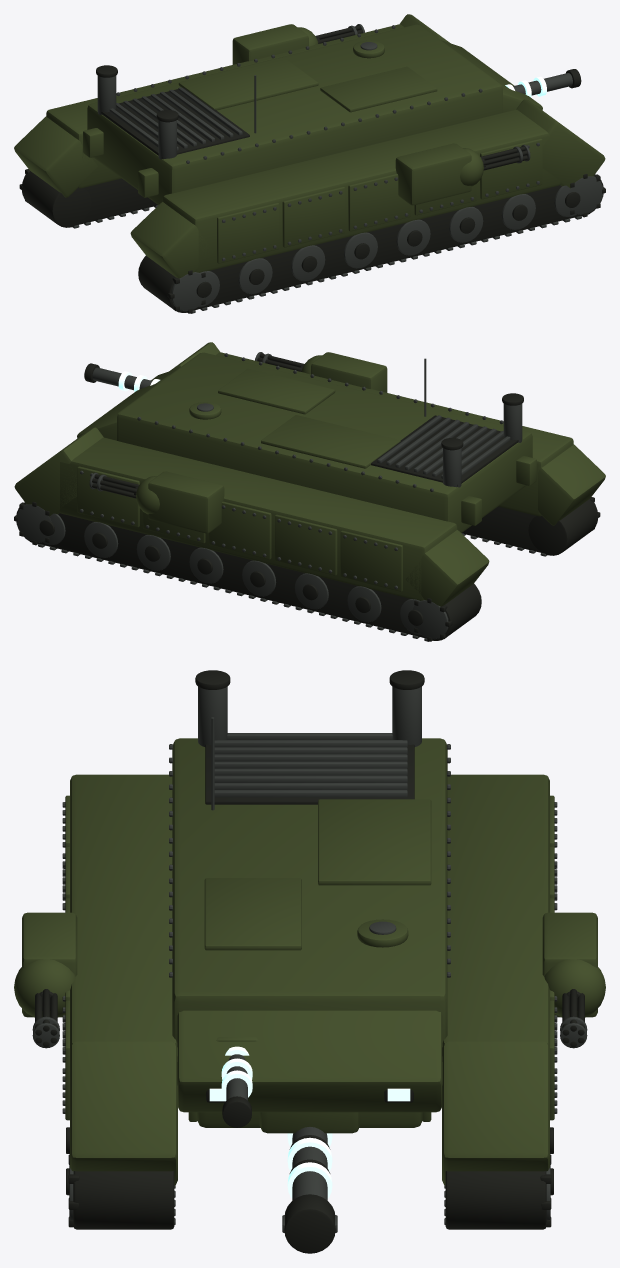
File: char_lourd.glb
3 renders of one model, top to bottom at view 1: azimuth 30°, elevation 25°; view 2: azimuth 150°, elevation 25°; view 3: azimuth 270°, elevation 25°, orthographic. The views are drawn at different scales.
Parts seen in each view (by area): view 1: coque; view 2: coque; view 3: coque, canon, tourelle.
Boxes of the visible parts, x1=… form: coque: x1=14, y1=14, x2=605, y2=313; coque: x1=14, y1=342, x2=605, y2=641; coque: x1=14, y1=670, x2=605, y2=1229; canon: x1=282, y1=1127, x2=337, y2=1253; tourelle: x1=188, y1=1112, x2=431, y2=1133.
Bounding box in the file's own units: 12.76 × 5.08 × 8.78.
